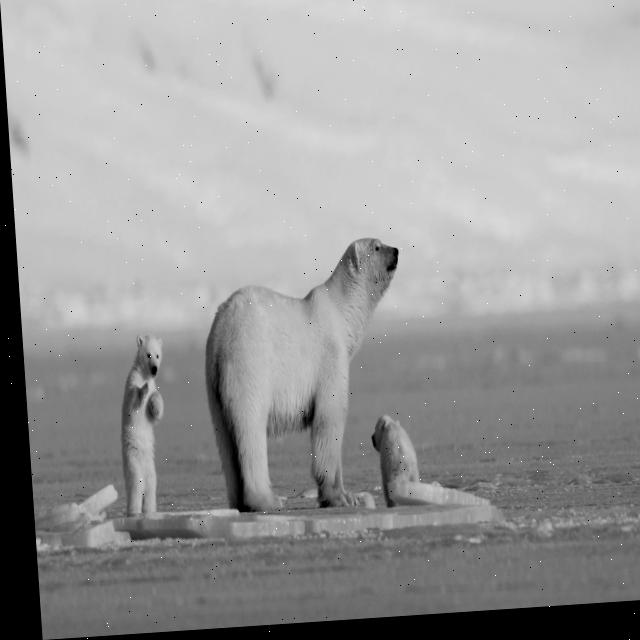Bear: (198, 231, 418, 543), (116, 341, 173, 520), (368, 410, 423, 511)
